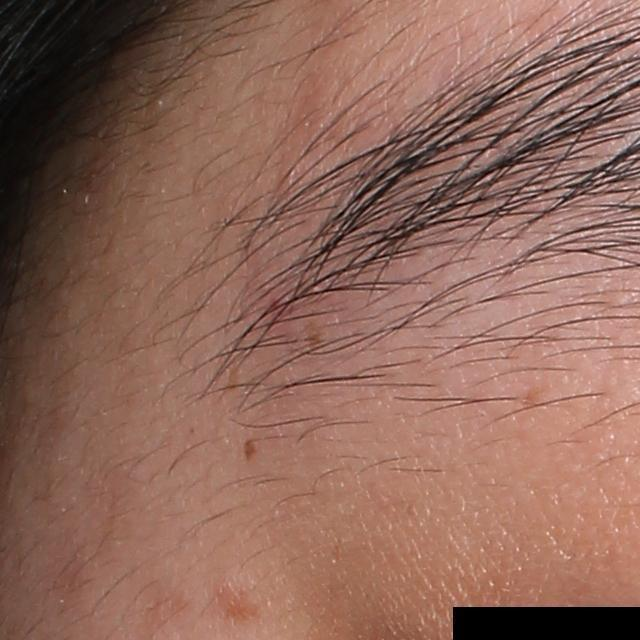melasma: (217, 574, 266, 629)
nevus: (236, 434, 260, 468)
